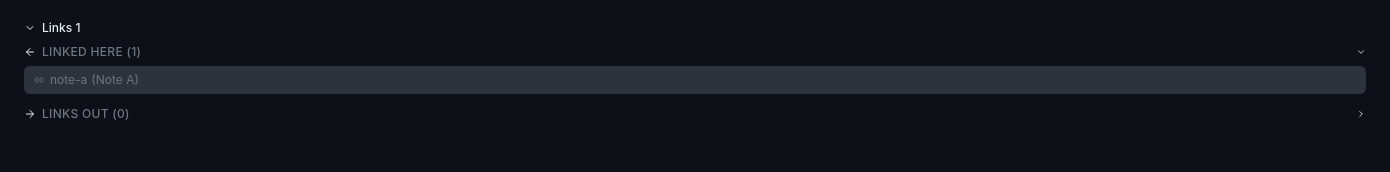
BacklinkPanel › shows outgoing empty message when expanded
Step 1. Click the button "Links out (0)" → (80, 114), box top-left (24, 106), bottom-right (1366, 122)
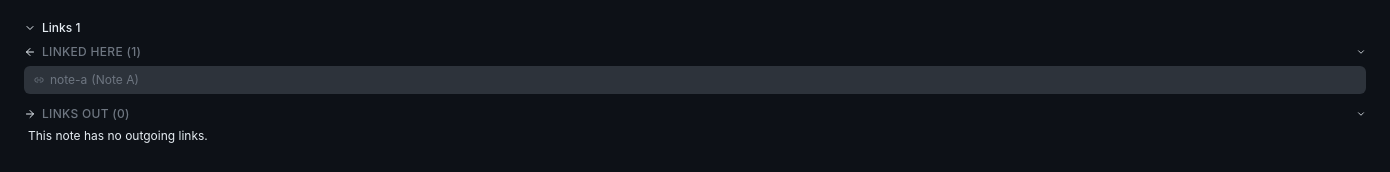
Result: the text "This note has no outgoing links." is shown at top-left (28, 128), bottom-right (208, 143)
